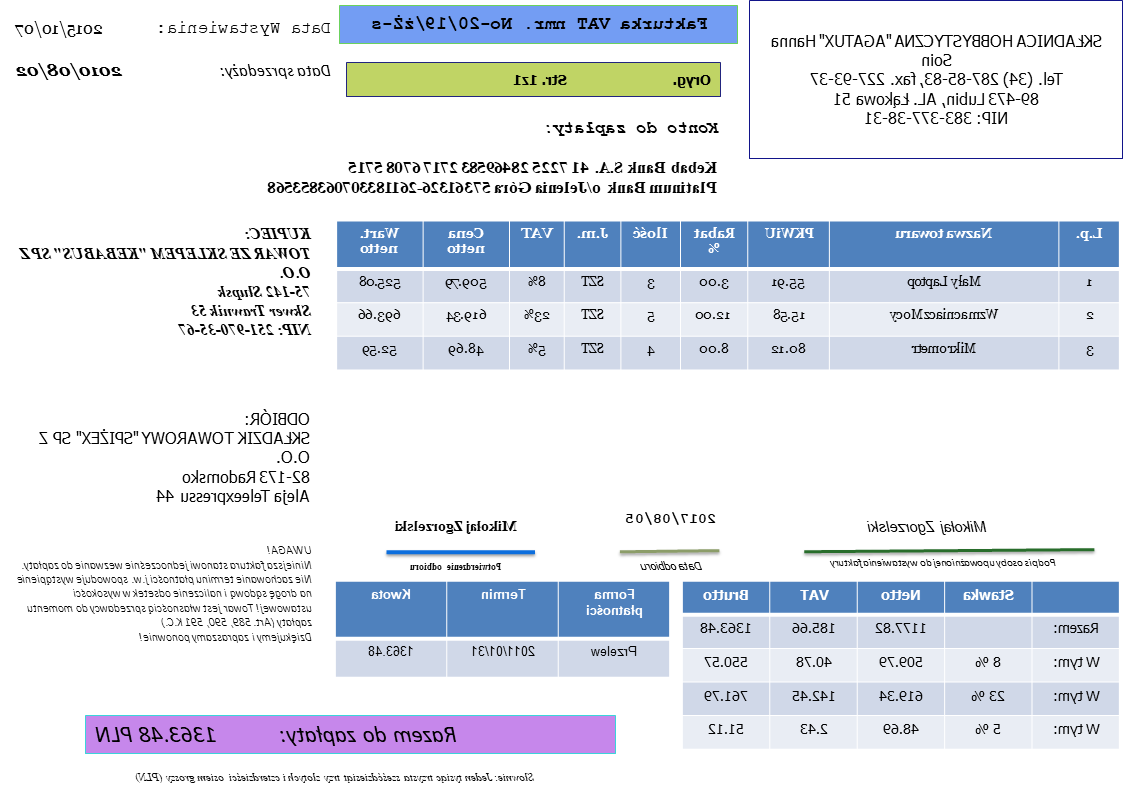Table: (335, 220, 1121, 372), (680, 580, 1122, 749), (334, 579, 672, 680)
TextBox: (11, 222, 315, 341), (768, 30, 1105, 131), (16, 543, 315, 646), (35, 405, 313, 510), (264, 157, 721, 197), (93, 721, 460, 749), (368, 12, 711, 34), (132, 768, 537, 786), (511, 69, 714, 92), (542, 117, 723, 139), (157, 18, 333, 40), (826, 555, 1059, 569), (392, 516, 522, 537), (14, 60, 125, 84), (862, 517, 989, 537), (219, 61, 334, 82), (624, 507, 720, 530), (13, 18, 106, 41), (408, 559, 506, 574), (637, 558, 705, 574)
